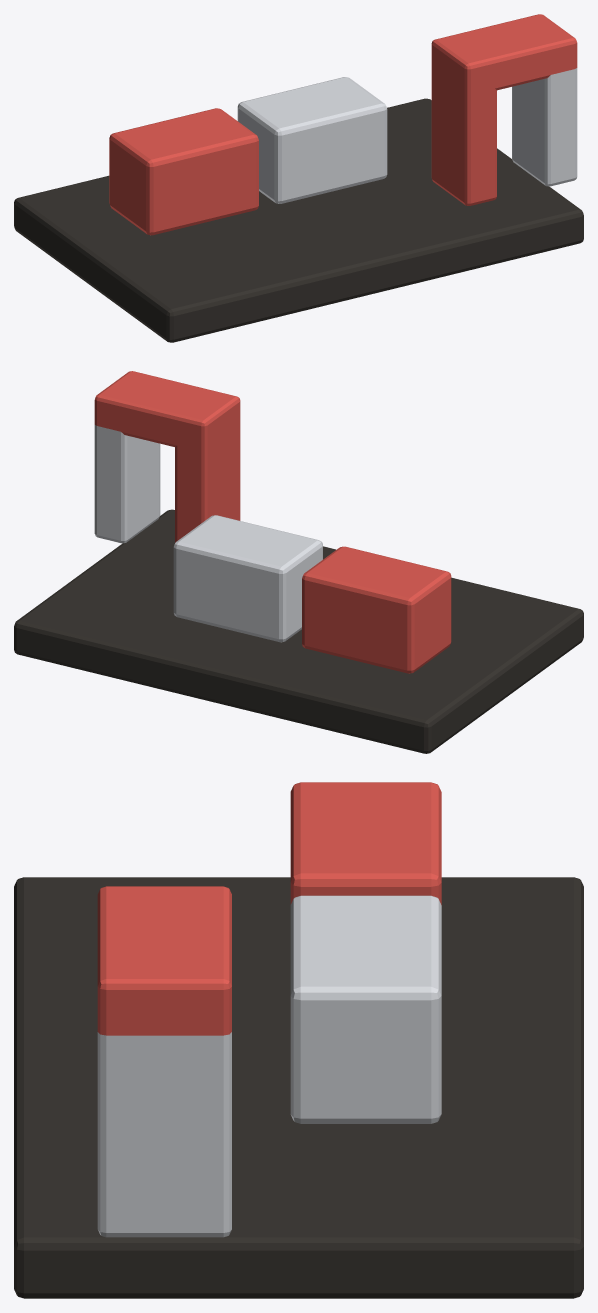
The model's file is magnets.glb.
The picture shows the model from 3 angles, top to bottom: view 1: azimuth 30°, elevation 25°; view 2: azimuth 150°, elevation 25°; view 3: azimuth 270°, elevation 25°; orthographic projection. The views are drawn at different scales.
Visible parts, largest first — view 1: magnets-black-pallet, magnets-block-0, magnets-block-1, magnets-u-arch, magnets-u-left, magnets-u-right; view 2: magnets-black-pallet, magnets-block-0, magnets-block-1, magnets-u-arch, magnets-u-right, magnets-u-left; view 3: magnets-black-pallet, magnets-block-1, magnets-u-right, magnets-u-arch, magnets-block-0.
Boxes of the visible parts, <box> form: magnets-black-pallet: <box>14,98,583,342</box>; magnets-block-0: <box>109,108,258,235</box>; magnets-block-1: <box>237,77,387,203</box>; magnets-u-arch: <box>431,14,577,94</box>; magnets-u-left: <box>431,69,496,205</box>; magnets-u-right: <box>512,68,577,186</box>; magnets-black-pallet: <box>14,509,583,753</box>; magnets-block-0: <box>302,546,451,673</box>; magnets-block-1: <box>173,515,322,642</box>; magnets-u-arch: <box>94,371,240,451</box>; magnets-u-right: <box>94,425,160,543</box>; magnets-u-left: <box>175,426,240,542</box>; magnets-black-pallet: <box>14,877,583,1298</box>; magnets-block-1: <box>290,895,441,1123</box>; magnets-u-right: <box>97,1032,231,1237</box>; magnets-u-arch: <box>97,886,231,1035</box>; magnets-block-0: <box>290,782,441,904</box>.
Bounding box in the file's own units: 1.18 × 0.4807 × 0.743.
